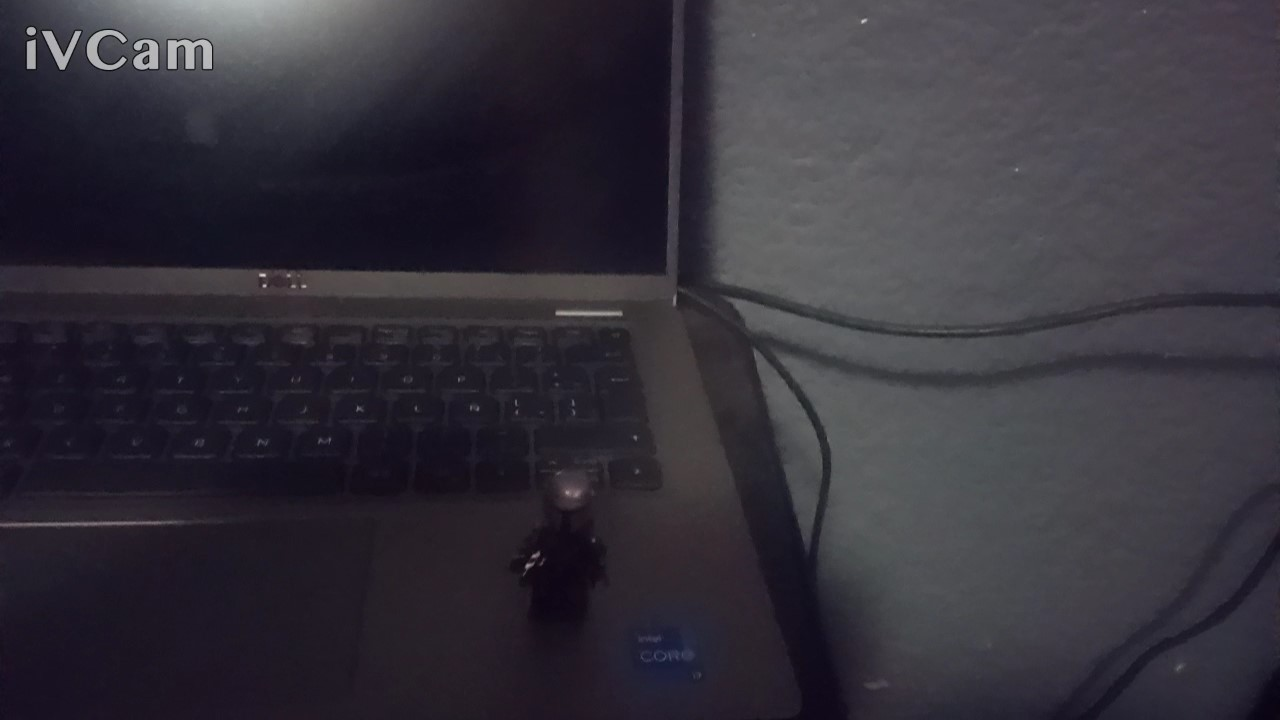mandalorian: (494, 459, 617, 665)
